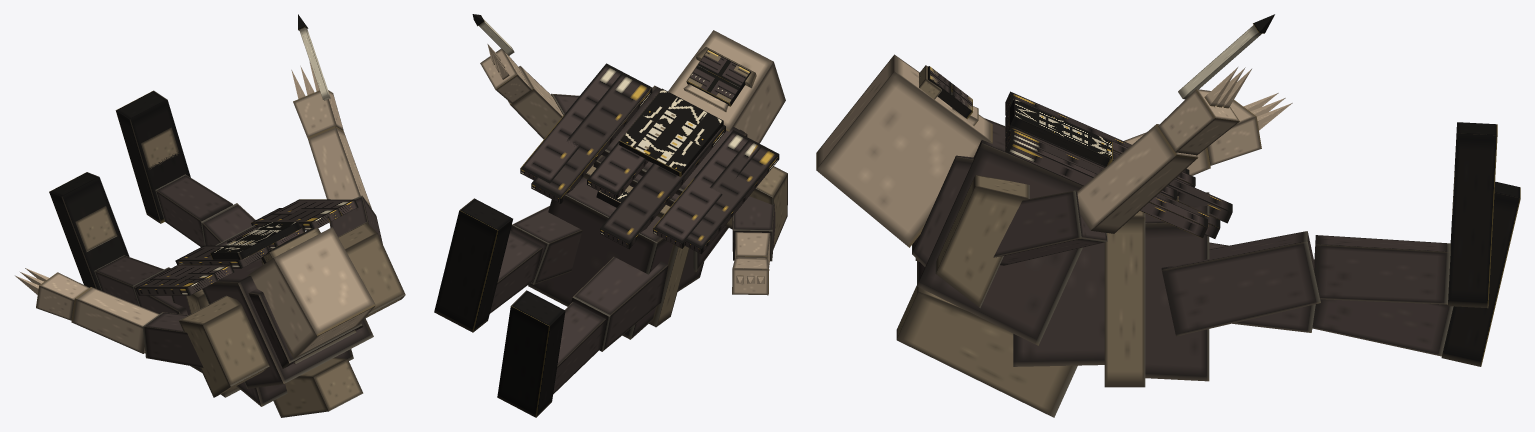
The model's file is scriptorax_attack.obj.
3 views of the same model, side by side, from view 1: azimuth 30°, elevation 25°; view 2: azimuth 150°, elevation 25°; view 3: azimuth 270°, elevation 25° (orthographic). The views are drawn at different scales.
Visible parts, largest first — view 1: scriptorax_attack; view 2: scriptorax_attack; view 3: scriptorax_attack.
Part boxes in pixels (x1=…): scriptorax_attack: x1=15, y1=14, x2=405, y2=417; scriptorax_attack: x1=434, y1=14, x2=787, y2=417; scriptorax_attack: x1=816, y1=14, x2=1520, y2=417.
Size of the model in its own units: 0.7039 by 0.7343 by 1.03.
Materials: 1 (1 with a texture image).
